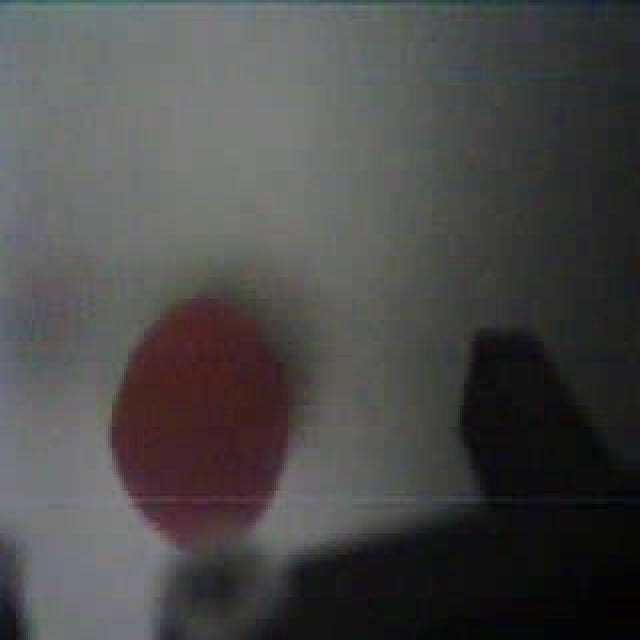red_ball: (106, 291, 294, 557)
